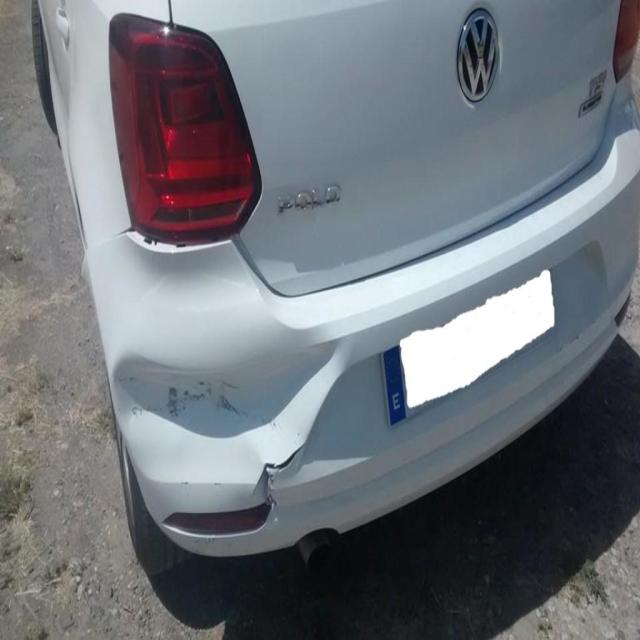Damage: (102, 255, 386, 580)
